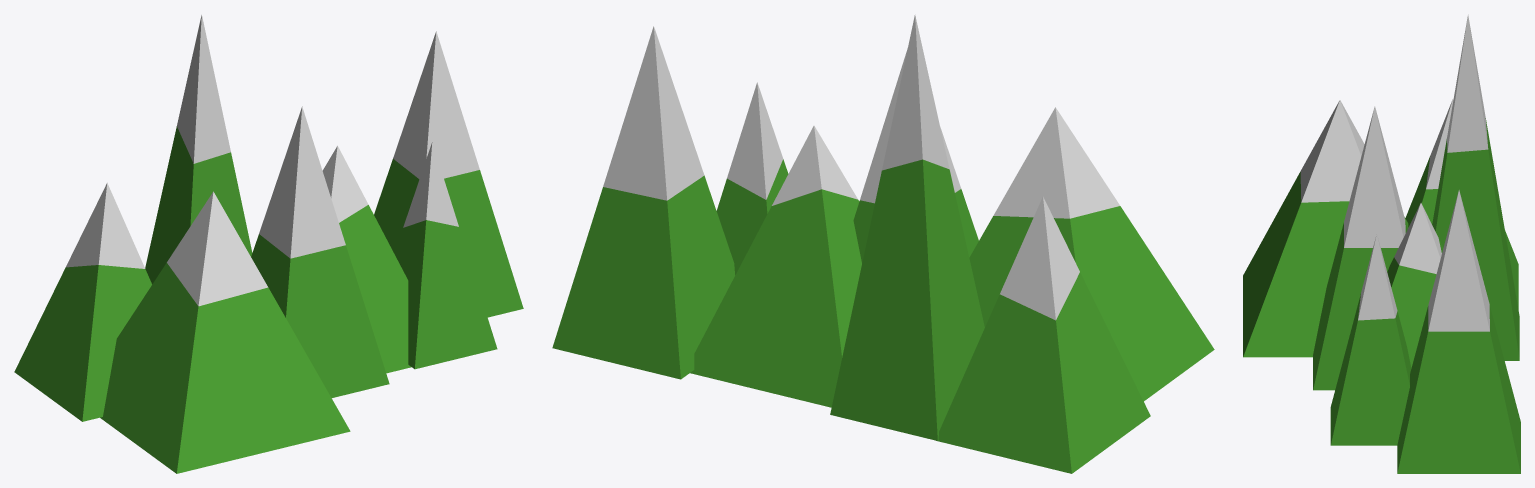
Rendered from Mountain1.fbx.
3 renders of one model, left to right at view 1: azimuth 30°, elevation 25°; view 2: azimuth 150°, elevation 25°; view 3: azimuth 270°, elevation 25°, orthographic. The views are drawn at different scales.
Visible parts, largest first — view 1: pCube45, pCube39, pCube44, pCube43, pCube40, pCube42, pCube41; view 2: pCube42, pCube43, pCube44, pCube41, pCube45, pCube40, pCube39; view 3: pCube43, pCube45, pCube42, pCube40, pCube39, pCube41, pCube44.
Boxes of the visible parts, left/top/right/bottom form: pCube45: left=100, top=191, right=350, bottom=473; pCube39: left=251, top=106, right=389, bottom=397; pCube44: left=14, top=183, right=151, bottom=421; pCube43: left=374, top=31, right=523, bottom=317; pCube40: left=394, top=142, right=497, bottom=369; pCube42: left=145, top=14, right=252, bottom=284; pCube41: left=322, top=146, right=411, bottom=373; pCube42: left=830, top=14, right=984, bottom=440; pCube43: left=552, top=26, right=734, bottom=379; pCube44: left=936, top=197, right=1150, bottom=473; pCube41: left=690, top=125, right=861, bottom=407; pCube45: left=969, top=107, right=1214, bottom=401; pCube40: left=716, top=82, right=788, bottom=274; pCube39: left=853, top=49, right=978, bottom=263; pCube43: left=1397, top=190, right=1520, bottom=473; pCube45: left=1243, top=100, right=1408, bottom=357; pCube42: left=1432, top=14, right=1519, bottom=360; pCube40: left=1330, top=234, right=1411, bottom=445; pCube39: left=1313, top=106, right=1407, bottom=390; pCube41: left=1387, top=203, right=1443, bottom=368; pCube44: left=1405, top=99, right=1518, bottom=309.
Size of the model in its own units: 12.18 by 8.88 by 6.8.
